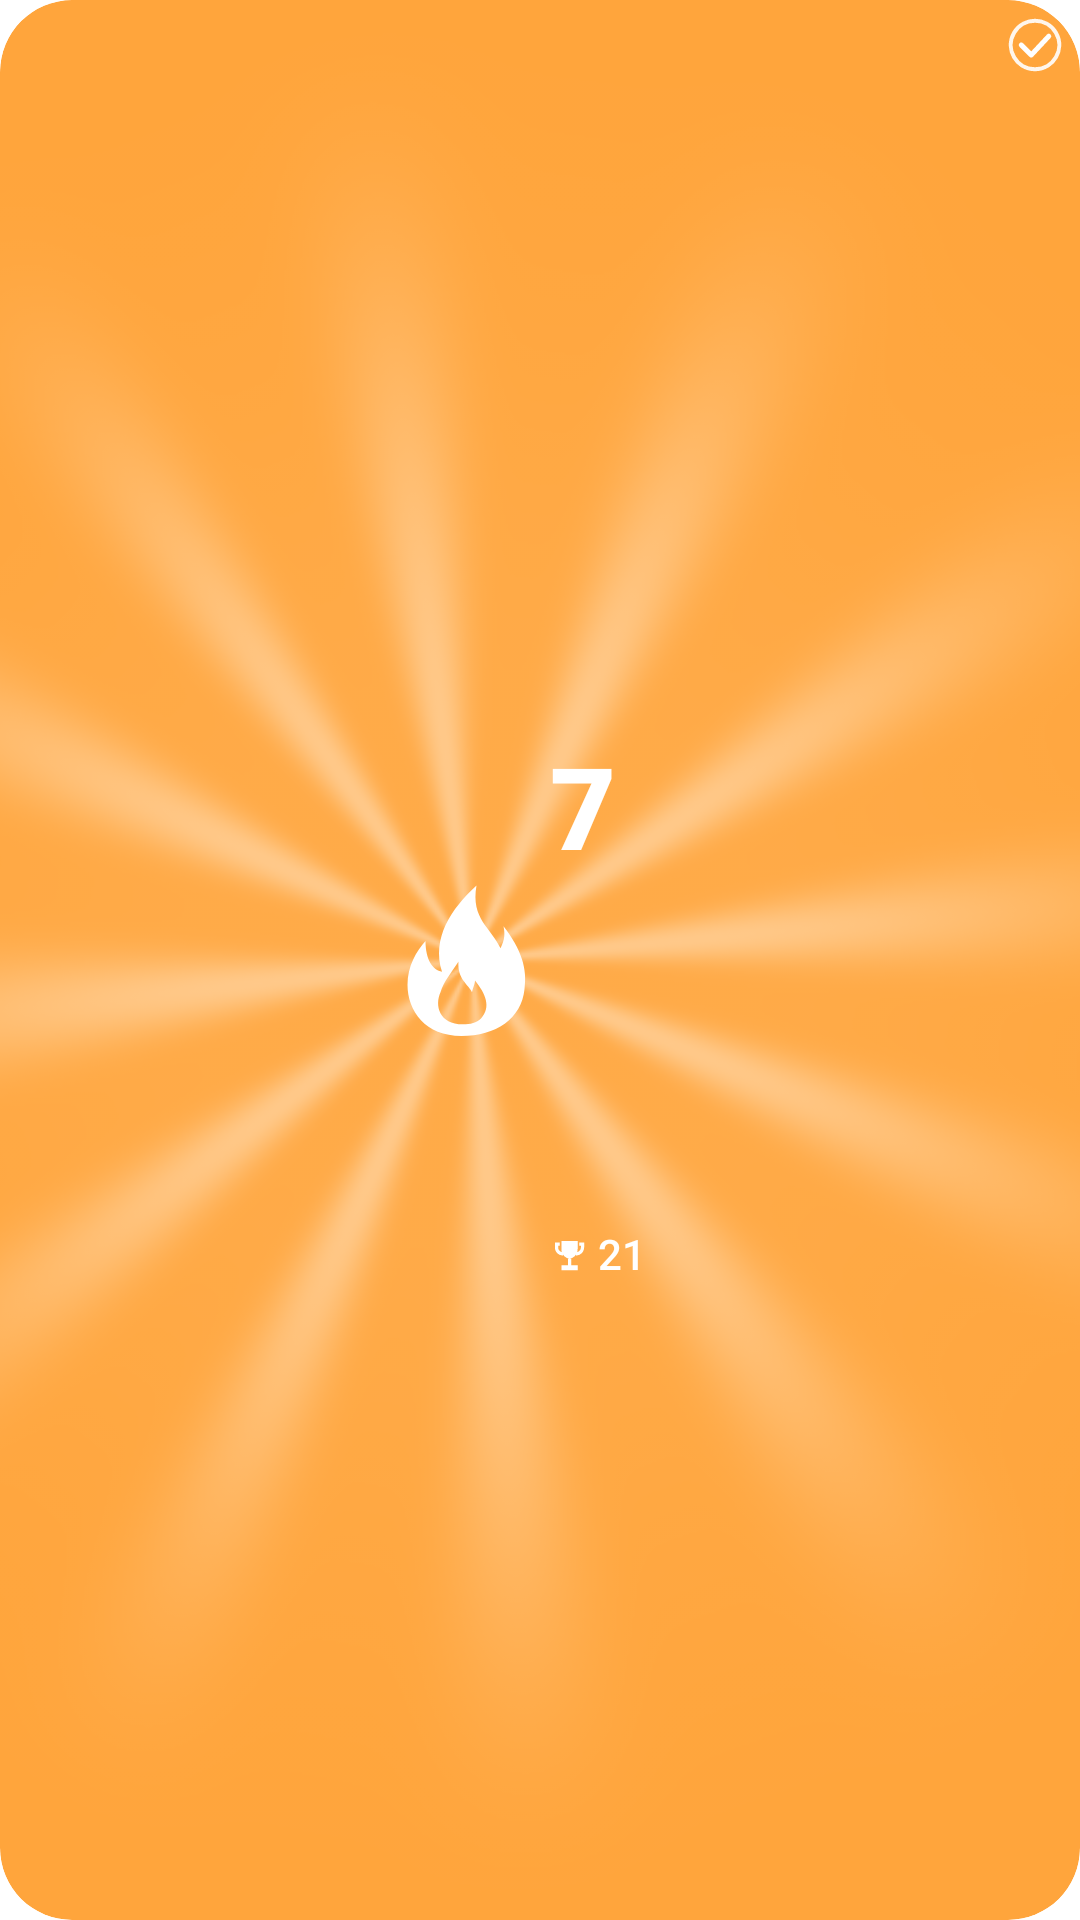

Locate icon controls on the screen. Image size 1080x1920, boxes as bbox=(x1, y1, x2, y2).
streak widget check: bbox=(1008, 18, 1062, 72)
